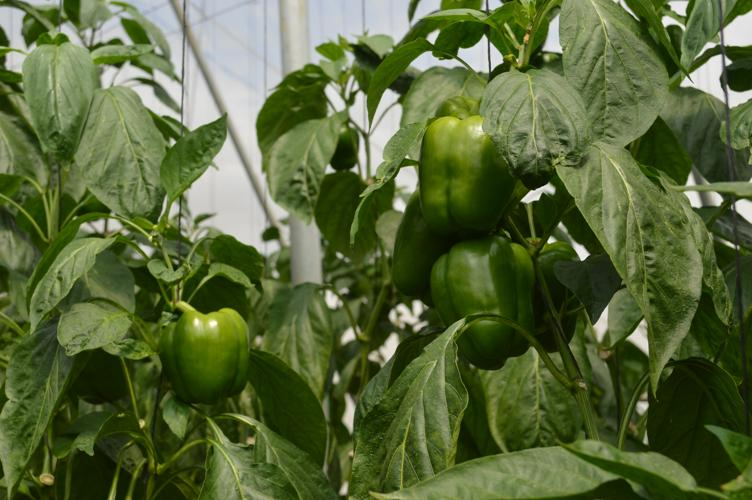BellPepper: (431, 240, 537, 363), (412, 116, 518, 233), (160, 309, 250, 397), (526, 242, 590, 354), (385, 192, 448, 291), (66, 350, 139, 402)
